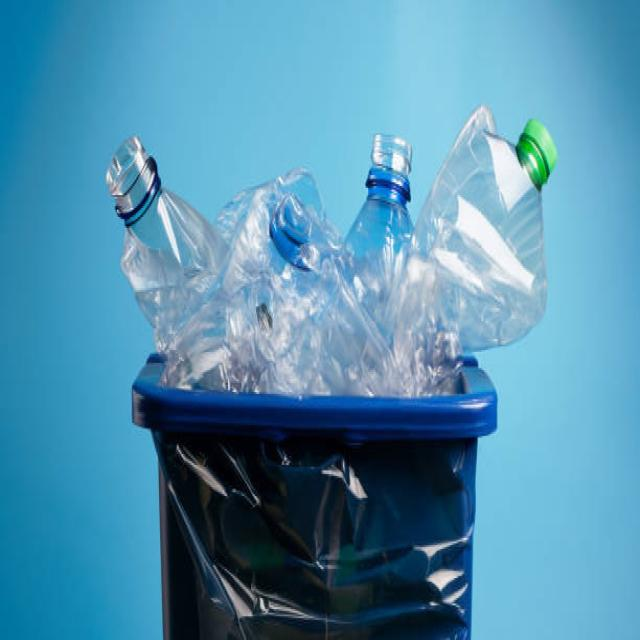plastic: (134, 153, 507, 374)
